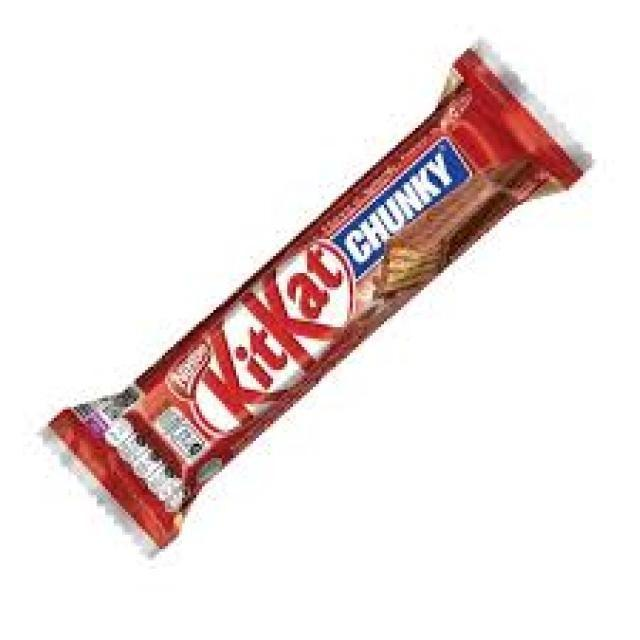kitkat_chocolate: (112, 72, 548, 555)
